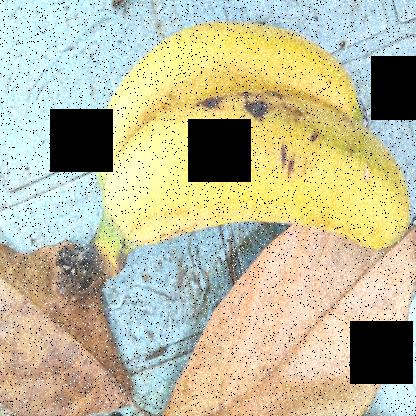freshripe: (109, 9, 367, 102)
ripe: (96, 77, 415, 284)
